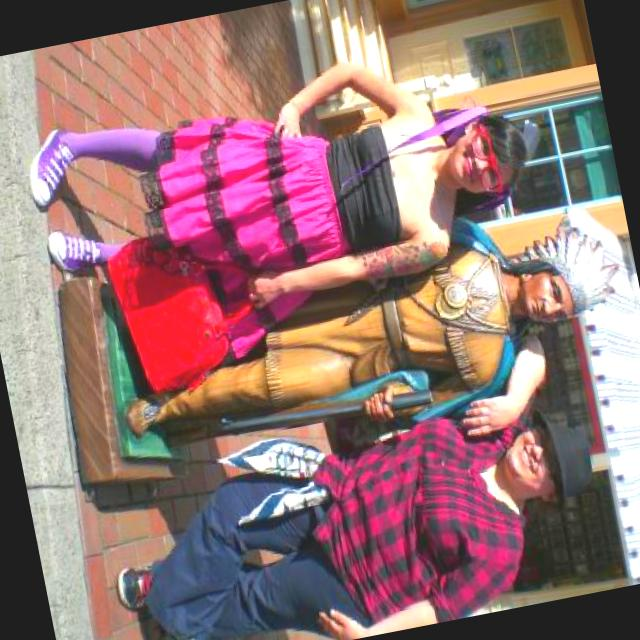Person: (17, 27, 546, 348), (81, 326, 618, 640), (105, 188, 640, 480)
